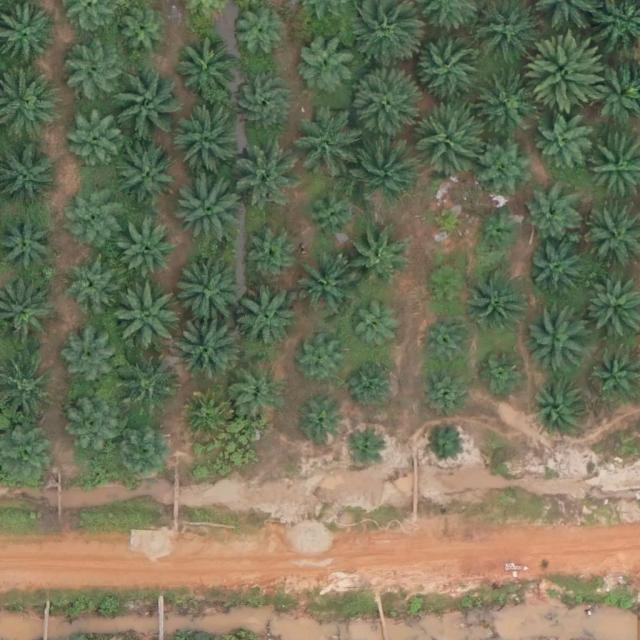Healthy: (529, 35, 607, 114), (170, 173, 241, 244), (414, 30, 484, 101), (412, 104, 482, 175), (349, 69, 420, 139), (349, 133, 419, 204), (231, 136, 301, 207), (172, 108, 242, 179), (111, 281, 181, 352), (174, 315, 244, 385), (169, 255, 239, 325), (109, 70, 179, 140), (527, 309, 590, 372), (474, 72, 537, 135), (475, 135, 538, 198), (345, 228, 408, 291), (232, 74, 295, 137), (235, 288, 298, 351), (114, 143, 177, 206), (115, 354, 178, 417), (292, 258, 354, 321), (292, 116, 354, 179), (175, 38, 237, 101), (65, 41, 127, 104), (470, 269, 532, 332), (296, 32, 358, 94), (526, 189, 581, 244), (527, 244, 582, 299), (422, 316, 477, 371), (416, 366, 471, 421), (178, 390, 233, 445), (305, 189, 360, 244), (245, 232, 300, 287), (122, 226, 177, 281), (67, 398, 122, 453), (61, 331, 116, 386), (68, 113, 123, 168), (533, 381, 587, 436), (537, 114, 591, 169), (232, 6, 286, 61), (231, 369, 285, 424), (115, 8, 169, 63), (116, 427, 170, 482), (61, 255, 115, 310), (67, 185, 121, 240)
Small: (424, 264, 471, 312), (349, 305, 396, 352), (351, 360, 398, 407), (479, 349, 526, 396), (475, 210, 522, 257), (299, 339, 346, 386), (298, 402, 345, 449), (343, 427, 383, 467), (429, 202, 468, 242), (427, 425, 466, 464)
